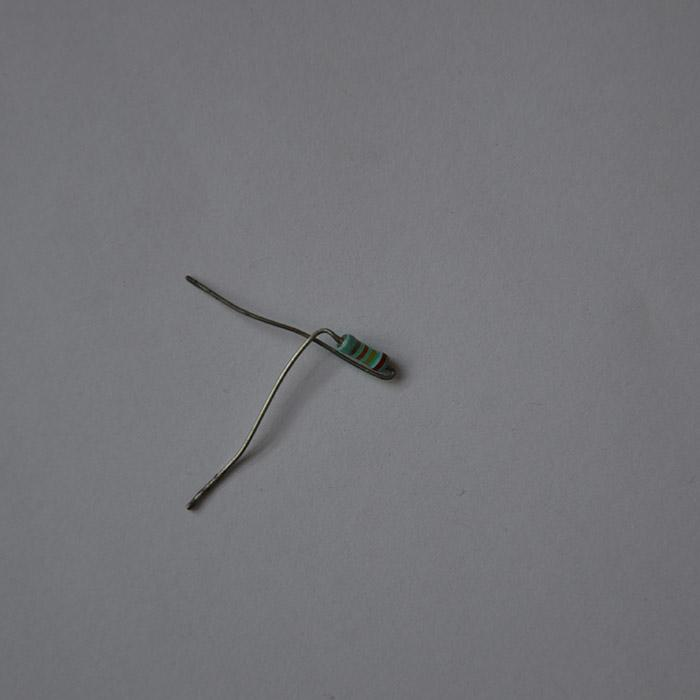resistor: (335, 332, 391, 374)
